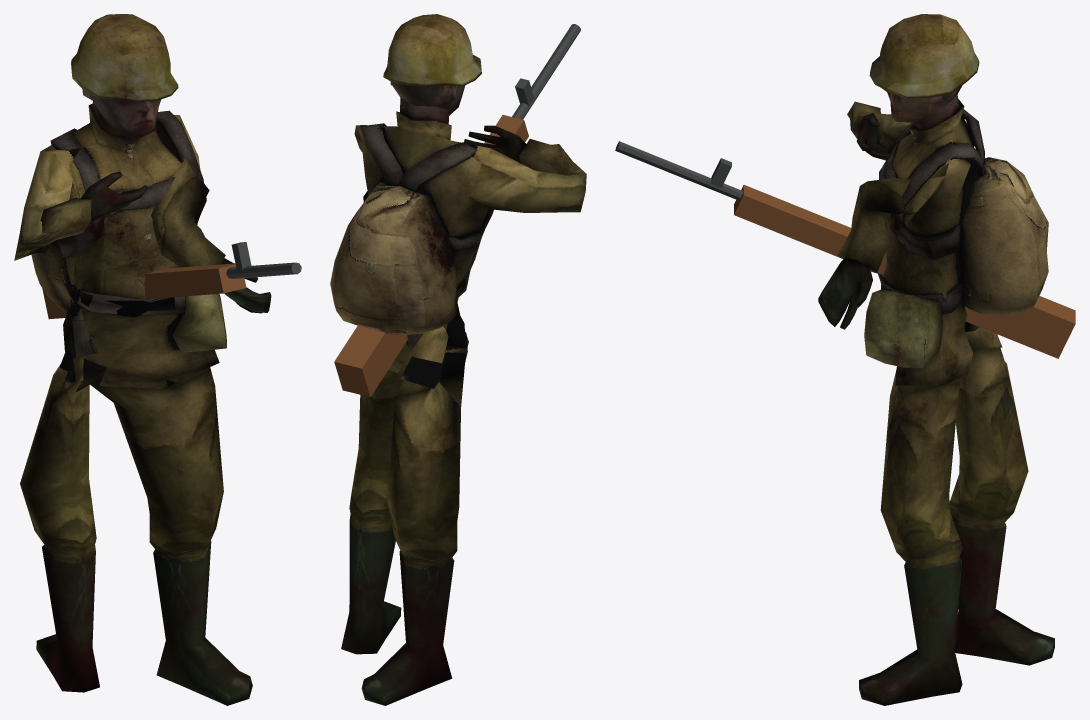
The model's file is soviet_ww2_soldier_run_00.glb.
3 views of the same model, side by side, from view 1: azimuth 30°, elevation 25°; view 2: azimuth 150°, elevation 25°; view 3: azimuth 270°, elevation 25° (orthographic). The views are drawn at different scales.
Parts seen in each view (by area): view 1: final_Static, SovietRifle_Generated; view 2: final_Static, SovietRifle_Generated; view 3: final_Static, SovietRifle_Generated.
Boxes of the visible parts, left/top/right/bottom form: final_Static: left=14, top=14, right=271, bottom=705; SovietRifle_Generated: left=42, top=242, right=301, bottom=319; final_Static: left=330, top=14, right=586, bottom=705; SovietRifle_Generated: left=334, top=24, right=580, bottom=396; final_Static: left=818, top=14, right=1054, bottom=705; SovietRifle_Generated: left=615, top=141, right=1075, bottom=358.
Bounding box in the file's own units: 0.6556 × 1.75 × 1.14.
Materials: 3 (1 with a texture image).
